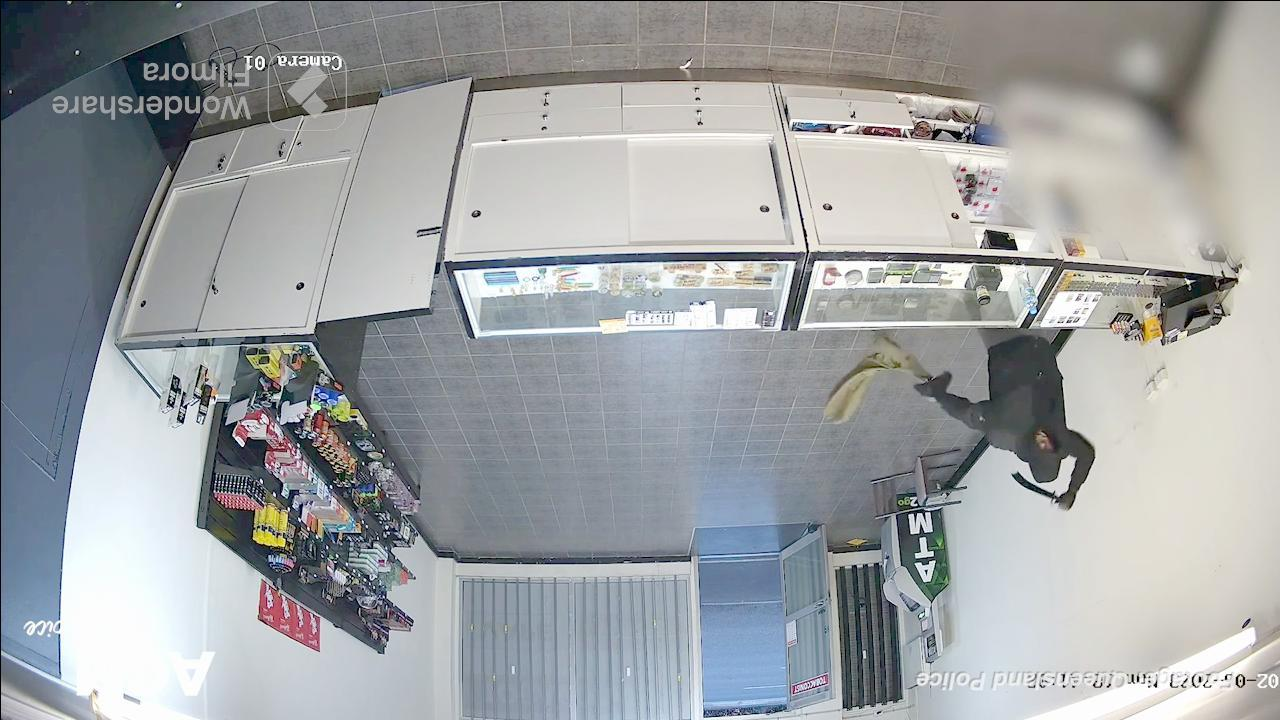melee: (1007, 467, 1072, 514)
